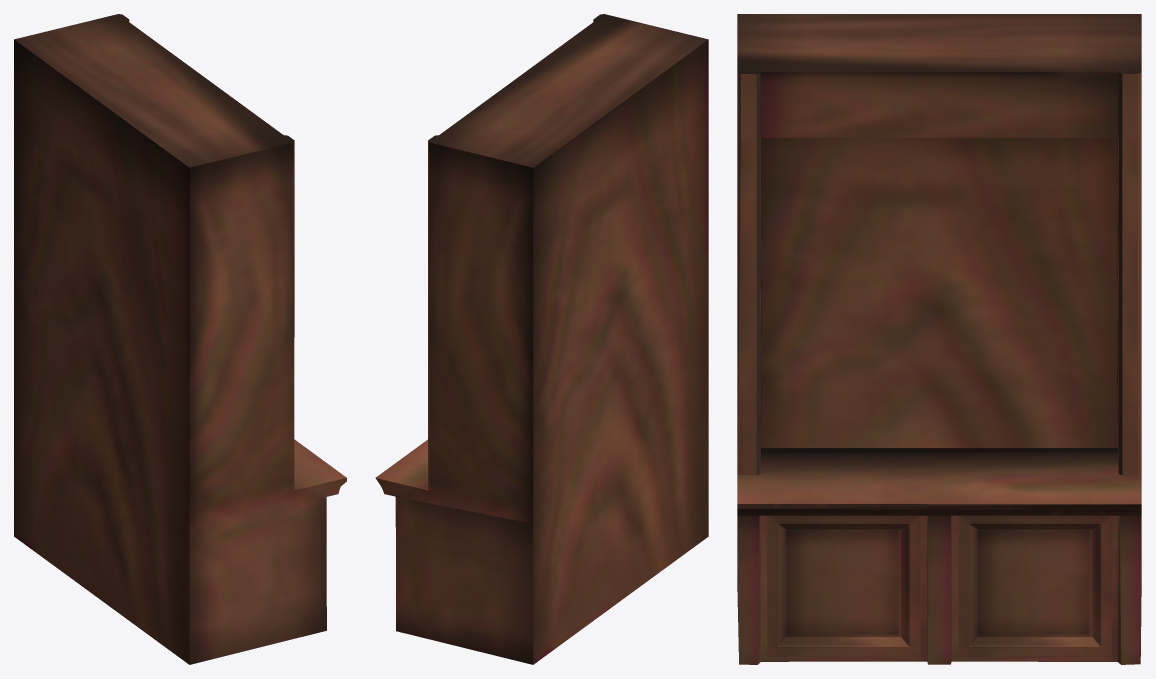
The model's file is Small Shelf without Shelfs.glb.
3 views of the same model, side by side, from view 1: azimuth 30°, elevation 25°; view 2: azimuth 150°, elevation 25°; view 3: azimuth 270°, elevation 25° (orthographic). The views are drawn at different scales.
Parts seen in each view (by area): view 1: model_2.001; view 2: model_2.001; view 3: model_2.001.
Part boxes in pixels (box(x1,y1,x2,y2)): model_2.001: box(14, 14, 346, 664); model_2.001: box(375, 14, 708, 664); model_2.001: box(737, 14, 1141, 664).
Size of the model in its own units: 1.13 by 3.4 by 2.17.
1 material, 1 textured.
